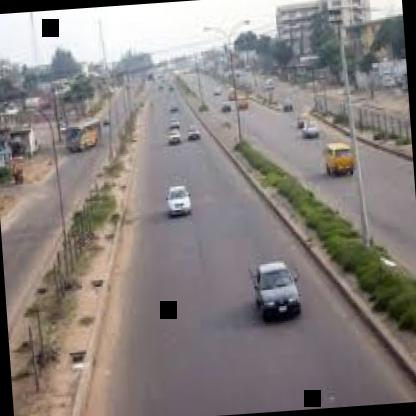car: (234, 249, 321, 341), (57, 114, 118, 156), (164, 183, 216, 228), (316, 139, 364, 184), (232, 85, 260, 125), (290, 112, 324, 143), (162, 125, 192, 155), (186, 119, 204, 148)
